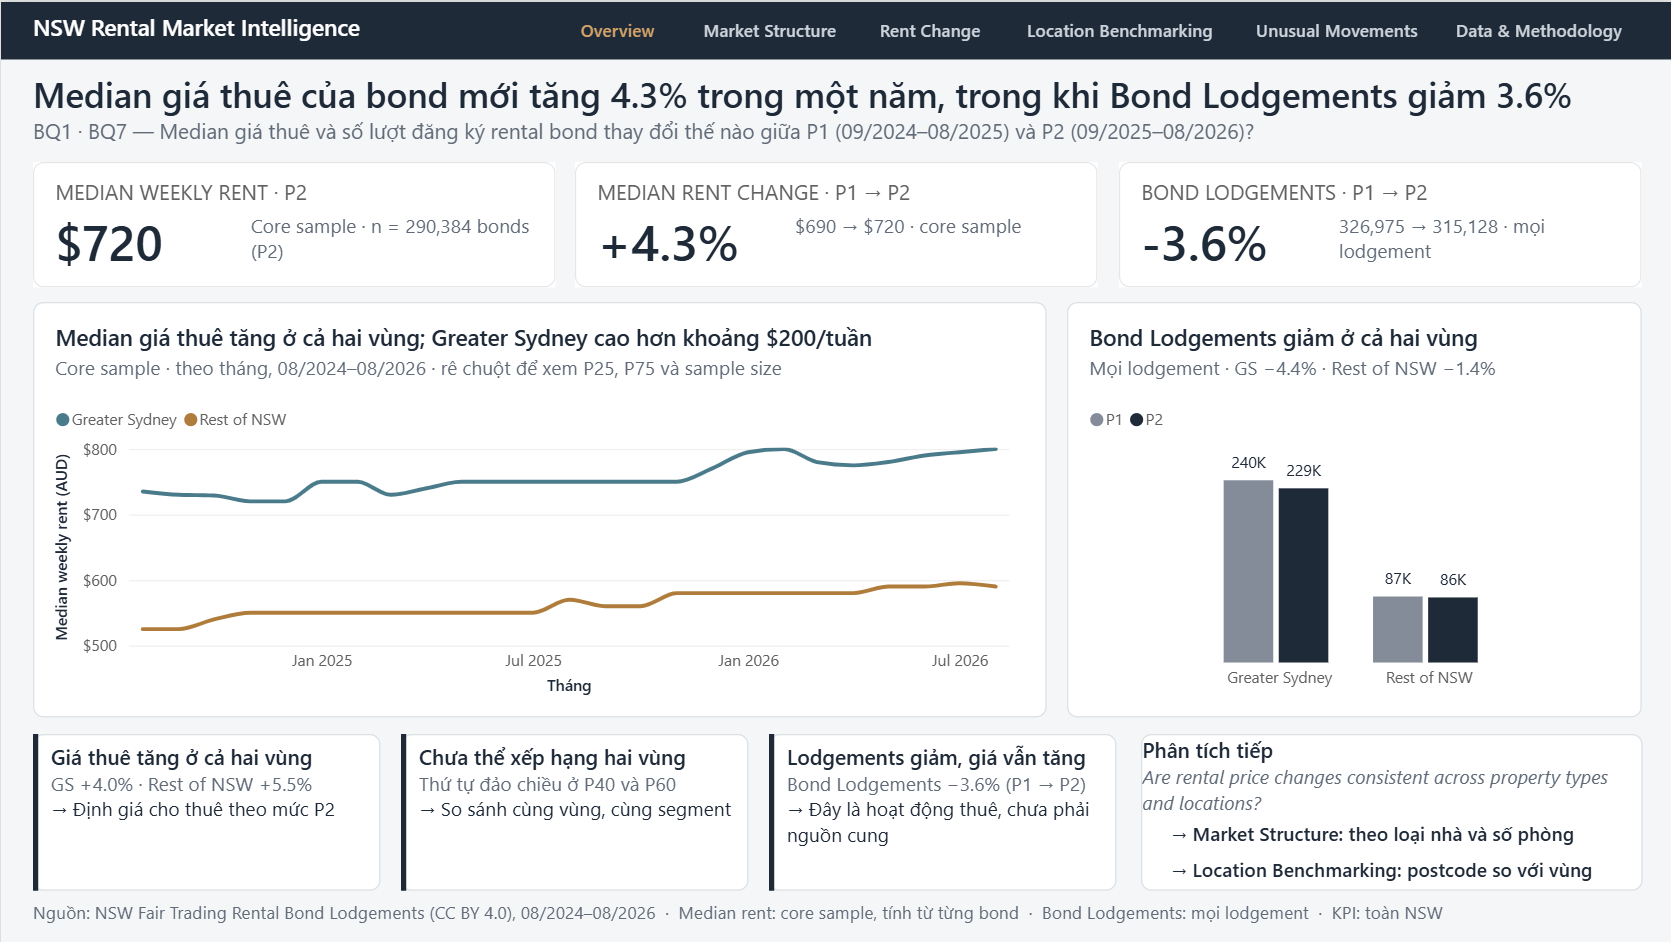

The page's visual inventory and layout, read from the dashboard file:
{"tool":"powerbi","page":{"name":"Executive Overview","canvas":[1280,720],"ordinal":0},"visuals":[{"type":"textbox","box":[0,0,1280,44],"z":1000},{"type":"textbox","box":[24,8,380,30],"z":1001},{"type":"actionButton","box":[424,6,96,32],"z":1002},{"type":"actionButton","box":[520,6,136,32],"z":1002},{"type":"actionButton","box":[656,6,112,32],"z":1002},{"type":"actionButton","box":[768,6,176,32],"z":1002},{"type":"actionButton","box":[944,6,156,32],"z":1002},{"type":"actionButton","box":[1100,6,156,32],"z":1002},{"type":"textbox","box":[24,52,1232,36],"z":2000},{"type":"textbox","box":[24,88,1232,26],"z":2000},{"type":"cardVisual","fields":{"Data":["fact_lodgements.Median P2"]},"box":[24,122,400,96],"z":3000},{"type":"textbox","box":[192,160,220,50],"z":3001},{"type":"cardVisual","fields":{"Data":["fact_lodgements.P1 to P2 Change %"]},"box":[440,122,400,96],"z":4000},{"type":"textbox","box":[608,160,220,50],"z":4001},{"type":"cardVisual","fields":{"Data":["fact_lodgements.Lodgements Change %"]},"box":[856,122,400,96],"z":5000},{"type":"textbox","box":[1024,160,220,50],"z":5001},{"type":"lineChart","title":"Median giá thuê tăng ở cả hai vùng; Greater Sydney cao hơn khoảng $200/tuần","fields":{"Category":["dim_date.month_start"],"Series":["dim_postcode.region"],"Y":["fact_lodgements.Median Rent"]},"box":[24,230,776,318],"z":6000},{"type":"clusteredColumnChart","title":"Bond Lodgements giảm ở cả hai vùng","fields":{"Category":["dim_postcode.region"],"Y":["fact_lodgements.Lodgements P1","fact_lodgements.Lodgements P2"]},"box":[816,230,440,318],"z":7000},{"type":"textbox","box":[24,560,266,120],"z":8000},{"type":"textbox","box":[24,560,4,120],"z":8001},{"type":"textbox","box":[38,566,246,108],"z":8002},{"type":"textbox","box":[306,560,266,120],"z":9000},{"type":"textbox","box":[306,560,4,120],"z":9001},{"type":"textbox","box":[320,566,246,108],"z":9002},{"type":"textbox","box":[588,560,266,120],"z":10000},{"type":"textbox","box":[588,560,4,120],"z":10001},{"type":"textbox","box":[602,566,246,108],"z":10002},{"type":"textbox","box":[872,560,384,120],"z":11000},{"type":"actionButton","box":[884,620,360,26],"z":11001},{"type":"actionButton","box":[884,648,360,26],"z":11002},{"type":"textbox","box":[24,688,1232,26],"z":12000}]}

Visuals, with their boxes in screenshot pixels (x1, y1, x2, y2), scaled from the page's 1280x720 canvas onto the 1671x942 screenshot:
textbox: x1=0 y1=0 x2=1670 y2=58
textbox: x1=31 y1=10 x2=527 y2=50
actionButton: x1=554 y1=8 x2=679 y2=50
actionButton: x1=679 y1=8 x2=856 y2=50
actionButton: x1=856 y1=8 x2=1003 y2=50
actionButton: x1=1003 y1=8 x2=1232 y2=50
actionButton: x1=1232 y1=8 x2=1436 y2=50
actionButton: x1=1436 y1=8 x2=1640 y2=50
textbox: x1=31 y1=68 x2=1640 y2=115
textbox: x1=31 y1=115 x2=1640 y2=149
cardVisual - fact_lodgements.Median P2: x1=31 y1=160 x2=554 y2=285
textbox: x1=251 y1=209 x2=538 y2=275
cardVisual - fact_lodgements.P1 to P2 Change %: x1=574 y1=160 x2=1097 y2=285
textbox: x1=794 y1=209 x2=1081 y2=275
cardVisual - fact_lodgements.Lodgements Change %: x1=1117 y1=160 x2=1640 y2=285
textbox: x1=1337 y1=209 x2=1624 y2=275
"Median giá thuê tăng ở cả hai vùng; Greater Sydney cao hơn khoảng $200/tuần" lineChart: x1=31 y1=301 x2=1044 y2=717
"Bond Lodgements giảm ở cả hai vùng" clusteredColumnChart: x1=1065 y1=301 x2=1640 y2=717
textbox: x1=31 y1=733 x2=379 y2=890
textbox: x1=31 y1=733 x2=37 y2=890
textbox: x1=50 y1=741 x2=371 y2=882
textbox: x1=399 y1=733 x2=747 y2=890
textbox: x1=399 y1=733 x2=405 y2=890
textbox: x1=418 y1=741 x2=739 y2=882
textbox: x1=768 y1=733 x2=1115 y2=890
textbox: x1=768 y1=733 x2=773 y2=890
textbox: x1=786 y1=741 x2=1107 y2=882
textbox: x1=1138 y1=733 x2=1640 y2=890
actionButton: x1=1154 y1=811 x2=1624 y2=845
actionButton: x1=1154 y1=848 x2=1624 y2=882
textbox: x1=31 y1=900 x2=1640 y2=934
